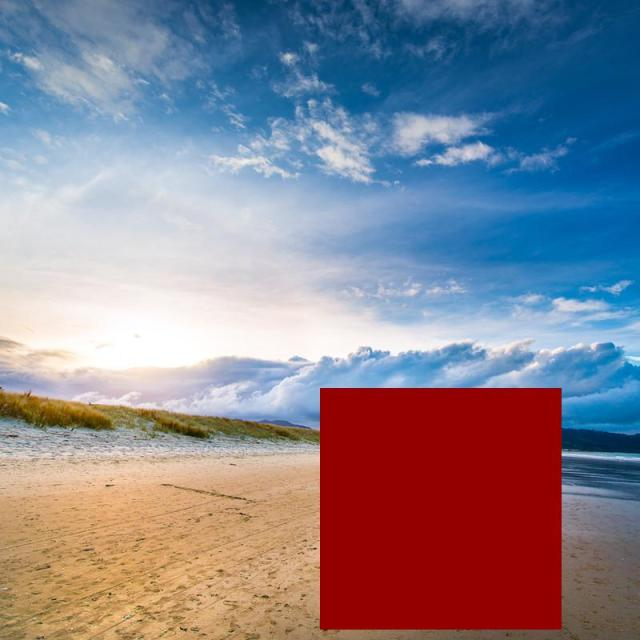RedSquare: (315, 378, 572, 636)
